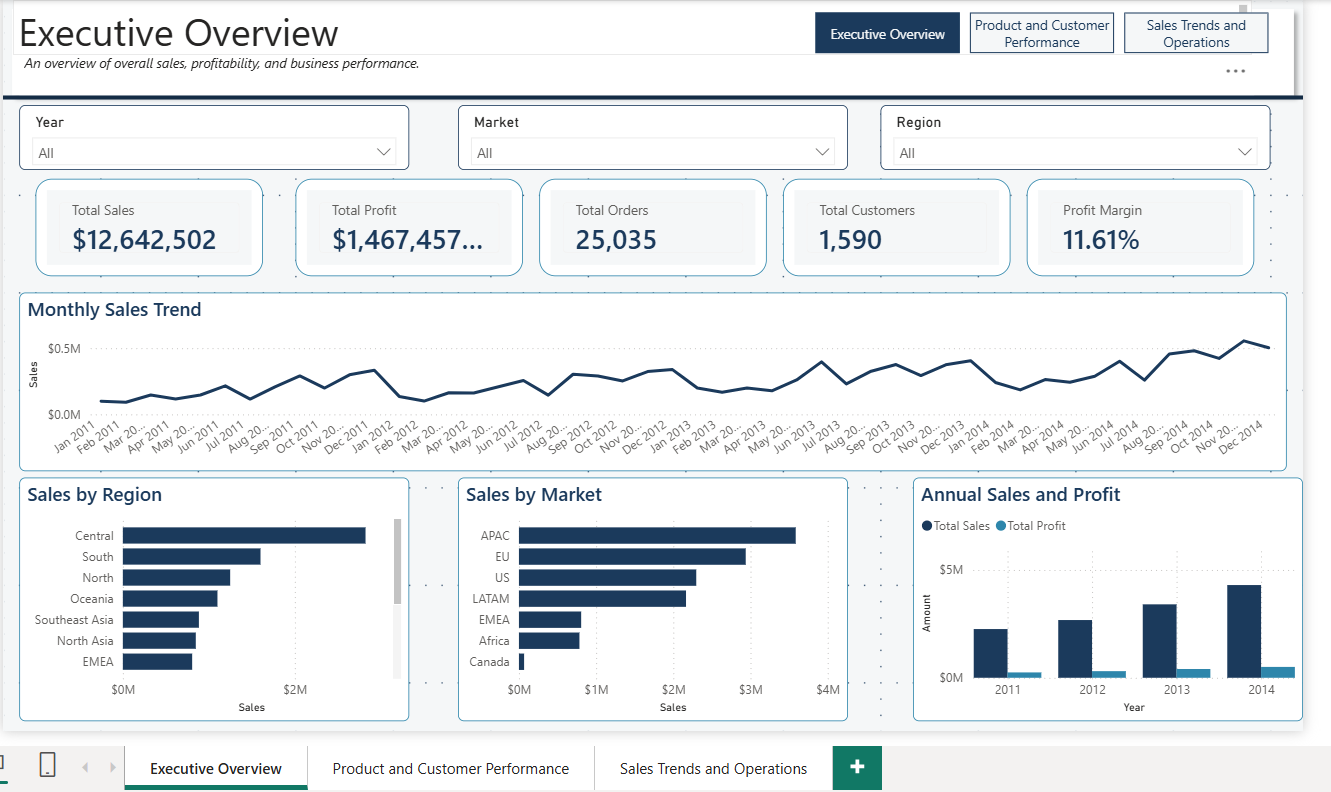

This screenshot's page, from the dashboard's own definition file:
{"tool":"powerbi","page":{"name":"Executive Overview","canvas":[1280,720],"ordinal":0},"visuals":[{"type":"cardVisual","fields":{"Data":["cleaned.total_sales"]},"box":[32,176,224,96],"z":0},{"type":"cardVisual","fields":{"Data":["cleaned.total_profit"]},"box":[288,176,224,96],"z":1000},{"type":"cardVisual","fields":{"Data":["cleaned.total_orders"]},"box":[528,176,224,96],"z":2000},{"type":"cardVisual","fields":{"Data":["cleaned.total_customers"]},"box":[768,176,224,96],"z":3000},{"type":"shape","box":[0,0,1280,103],"z":4000},{"type":"textbox","box":[16,48,1216,48],"z":6000},{"type":"textbox","box":[10,0,1220,54.1],"z":7000},{"type":"shape","box":[0,64,1280,64],"z":8000},{"type":"cardVisual","fields":{"Data":["cleaned.profit_margin"]},"box":[1008,176,224,96],"z":9000},{"type":"lineChart","title":"Monthly Sales Trend","fields":{"Y":["cleaned.total_sales"],"Category":["cleaned.month_year"]},"box":[16,288,1248,176],"z":10000},{"type":"clusteredBarChart","title":"Sales by Region","fields":{"Category":["cleaned.region"],"Y":["cleaned.total_sales"]},"box":[16,470,384,240],"z":11000},{"type":"clusteredBarChart","title":"Sales by Market","fields":{"Category":["cleaned.market"],"Y":["cleaned.total_sales"]},"box":[448,470,384,240],"z":12000},{"type":"clusteredColumnChart","title":"Annual Sales and Profit","fields":{"Category":["cleaned.Year"],"Y":["cleaned.total_sales","cleaned.total_profit"]},"box":[896,470,384,240],"z":13000},{"type":"pageNavigator","box":[800,12,448,40],"z":14000},{"type":"slicer","fields":{"Values":["cleaned.Year"]},"box":[16,103,384,64],"z":15000},{"type":"slicer","fields":{"Values":["cleaned.market"]},"box":[448,103,384,64],"z":16000},{"type":"slicer","fields":{"Values":["cleaned.region"]},"box":[864,103,384,64],"z":17000}]}

Visuals, with their boxes on the page's 1280x720 design canvas (x1, y1, x2, y2). These are canvas units, not pixel positions in the 1331x792 screenshot, which may show the page scaled, cropped or inside an application window:
cardVisual - cleaned.total_sales: box(32, 176, 256, 272)
cardVisual - cleaned.total_profit: box(288, 176, 512, 272)
cardVisual - cleaned.total_orders: box(528, 176, 752, 272)
cardVisual - cleaned.total_customers: box(768, 176, 992, 272)
shape: box(0, 0, 1280, 103)
textbox: box(16, 48, 1232, 96)
textbox: box(10, 0, 1230, 54)
shape: box(0, 64, 1280, 128)
cardVisual - cleaned.profit_margin: box(1008, 176, 1232, 272)
"Monthly Sales Trend" lineChart: box(16, 288, 1264, 464)
"Sales by Region" clusteredBarChart: box(16, 470, 400, 710)
"Sales by Market" clusteredBarChart: box(448, 470, 832, 710)
"Annual Sales and Profit" clusteredColumnChart: box(896, 470, 1280, 710)
pageNavigator: box(800, 12, 1248, 52)
slicer - cleaned.Year: box(16, 103, 400, 167)
slicer - cleaned.market: box(448, 103, 832, 167)
slicer - cleaned.region: box(864, 103, 1248, 167)
